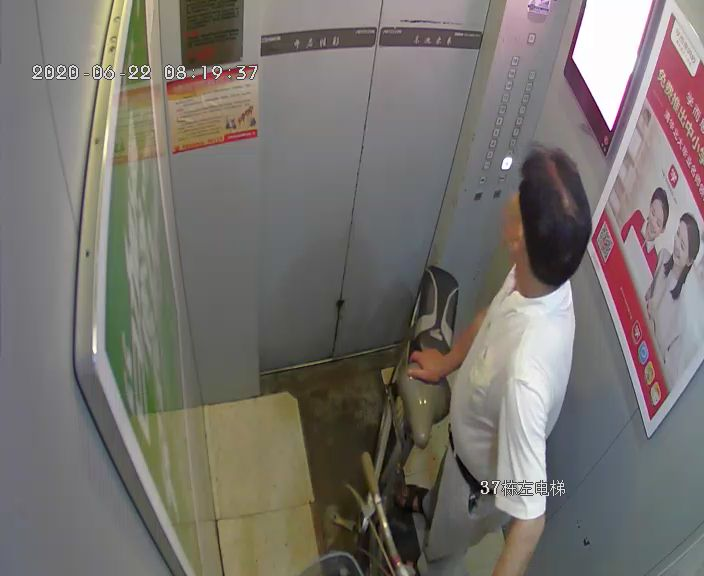Electric-bicycle: (347, 265, 459, 573)
